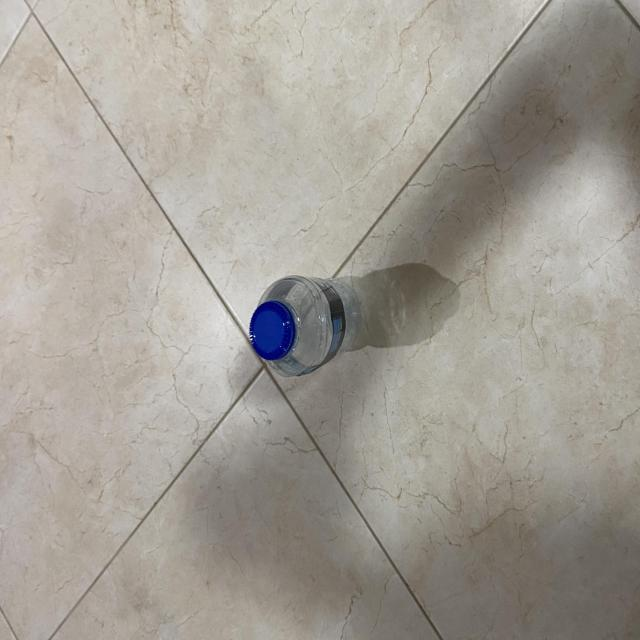plastic: (246, 272, 360, 380)
